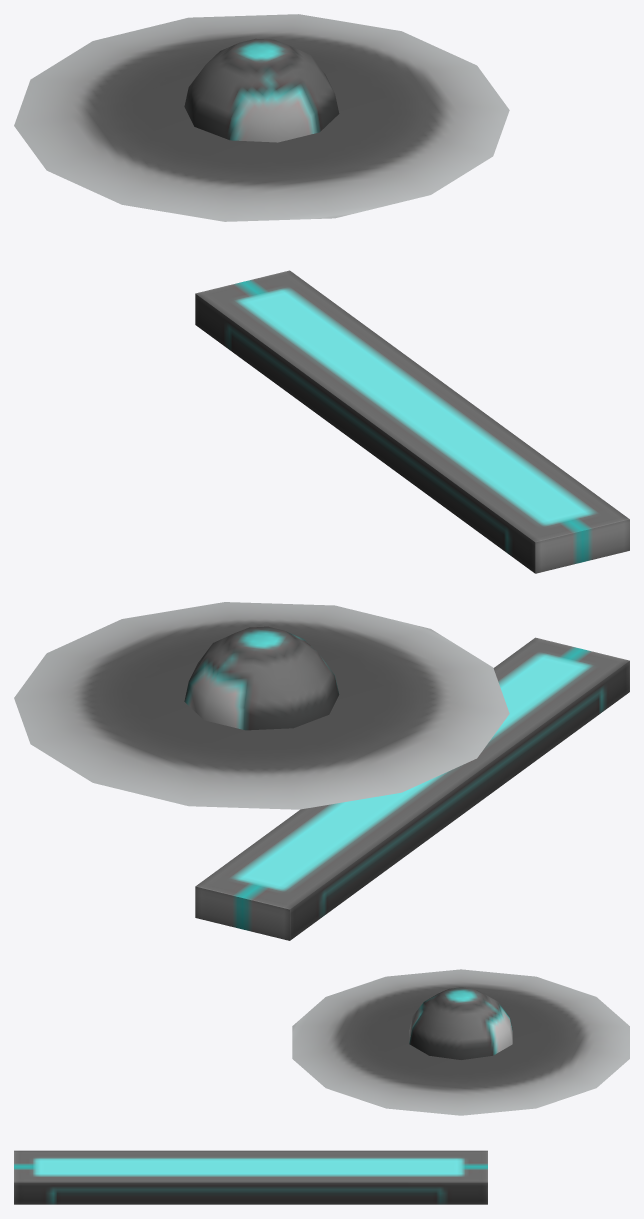
File: Obstacle_04.fbx
3 renders of one model, top to bottom at view 1: azimuth 30°, elevation 25°; view 2: azimuth 150°, elevation 25°; view 3: azimuth 270°, elevation 25°, orthographic. The views are drawn at different scales.
Parts seen in each view (by area): view 1: Obstacle_04; view 2: Obstacle_04; view 3: Obstacle_04.
Boxes of the visible parts, <box> form: Obstacle_04: <box>14,14,629,573</box>; Obstacle_04: <box>14,602,629,940</box>; Obstacle_04: <box>14,969,629,1204</box>.
Size of the model in its own units: 4.03 by 2.47 by 7.16.
1 material, 1 textured.
